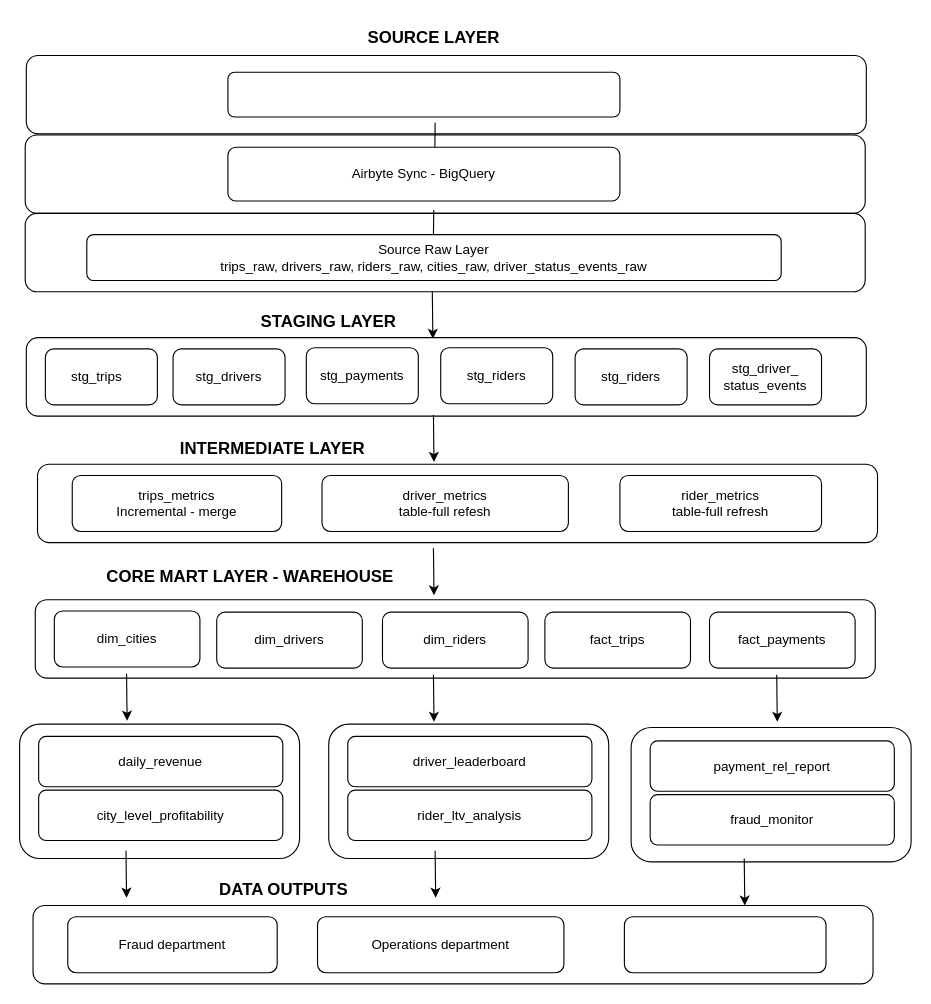
This 931x1004 diagram has some shape labels left out. The centre of each missing label's shape, as x and y in pixels:
"Finance department" goes at (724,944).
"PostgreSQL database" goes at (423,94).
